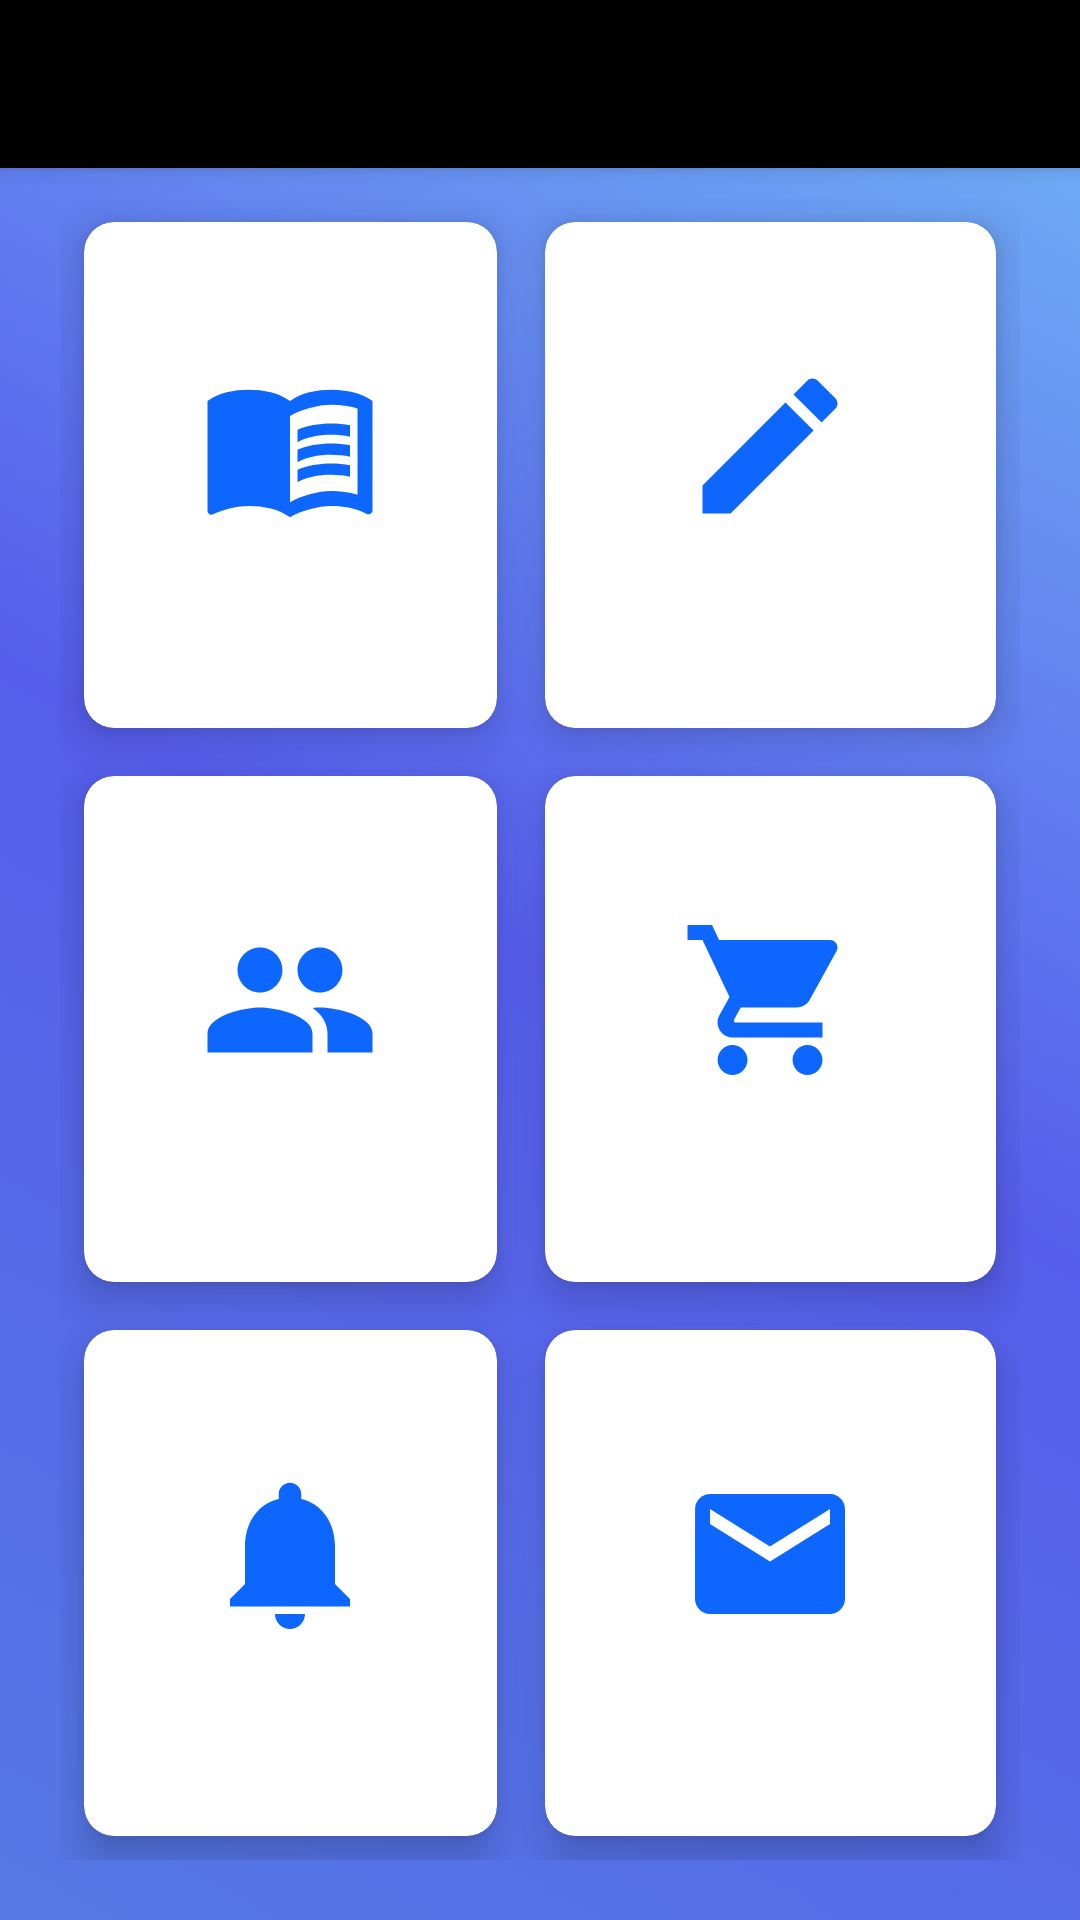

Where icons sit on this 1080×1920 app screen, as (x1, y1, x2, y2):
book: (207, 389, 373, 517)
edit: (702, 378, 838, 514)
people: (207, 947, 373, 1053)
shopping cart: (687, 925, 838, 1075)
